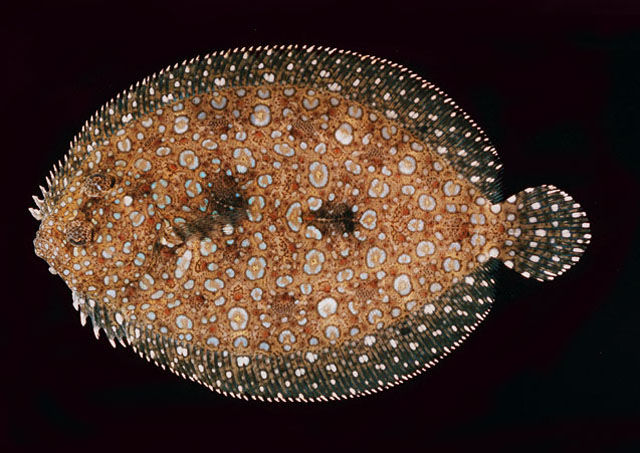fish: (31, 45, 592, 403)
